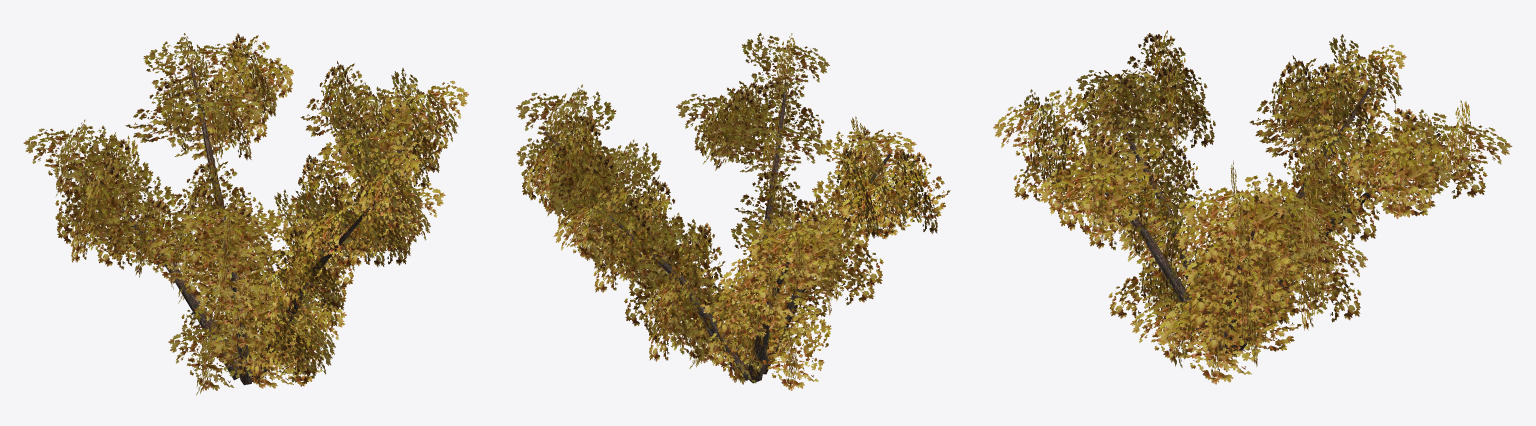
File: bush_3d_01_yellow_lod1.glb
3 renders of one model, left to right at view 1: azimuth 30°, elevation 25°; view 2: azimuth 150°, elevation 25°; view 3: azimuth 270°, elevation 25°, orthographic. The views are drawn at different scales.
Visible parts, largest first — view 1: foliage_cards, wood_geometry; view 2: foliage_cards, wood_geometry; view 3: foliage_cards, wood_geometry.
Part boxes in pixels (x1=…): foliage_cards: x1=23, y1=33, x2=468, y2=395; wood_geometry: x1=74, y1=67, x2=431, y2=385; foliage_cards: x1=516, y1=33, x2=950, y2=390; wood_geometry: x1=544, y1=82, x2=891, y2=383; foliage_cards: x1=993, y1=30, x2=1512, y2=384; wood_geometry: x1=1052, y1=87, x2=1440, y2=356.
Size of the model in its own units: 2 by 1.29 by 2.12.
Materials: 2 (2 with a texture image).
